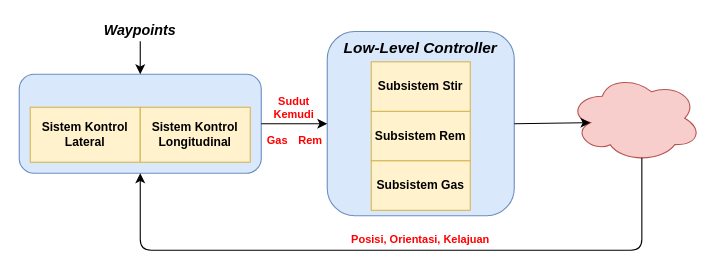
Image size: 721x278. Some labels were removed from this diagram. The box of each missing label's shape, as (x1, y1, x2, y2) in pixels:
High-Level Controller: (18, 73, 261, 173)
Mobil Golf: (568, 73, 701, 162)
